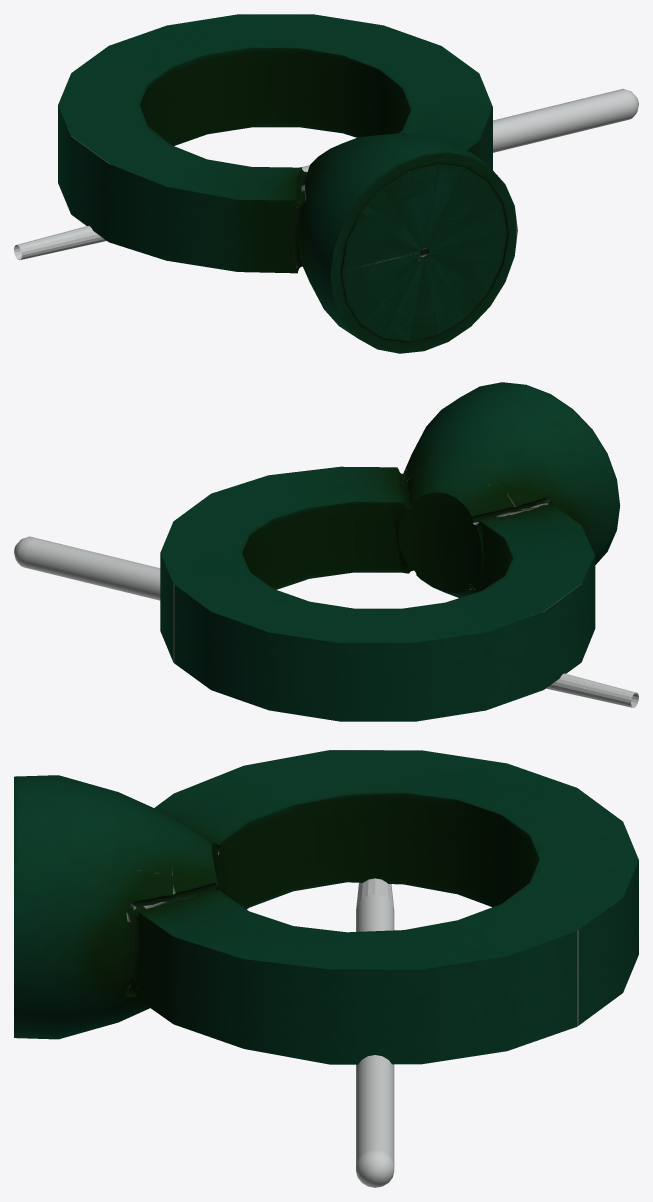
The picture shows the model from 3 angles, top to bottom: view 1: azimuth 30°, elevation 25°; view 2: azimuth 150°, elevation 25°; view 3: azimuth 270°, elevation 25°; orthographic projection. The views are drawn at different scales.
Parts seen in each view (by area): view 1: 211_JieQuan_AoXian_002, 211_JieQuan_AoXian_ZhuaXiang_003, 211_JieQuan_AoXian_ZhuaXiang_001, 211_DaMoJi_0.8MoZhen; view 2: 211_JieQuan_AoXian_002, 211_DaMoJi_0.8MoZhen; view 3: 211_JieQuan_AoXian_002, 211_DaMoJi_0.8MoZhen.
Part boxes in pixels (x1=…): 211_JieQuan_AoXian_002: x1=58, y1=14, x2=517, y2=353; 211_JieQuan_AoXian_ZhuaXiang_003: x1=342, y1=164, x2=506, y2=341; 211_JieQuan_AoXian_ZhuaXiang_001: x1=341, y1=165, x2=506, y2=340; 211_DaMoJi_0.8MoZhen: x1=14, y1=88, x2=638, y2=260; 211_JieQuan_AoXian_002: x1=160, y1=382, x2=620, y2=721; 211_DaMoJi_0.8MoZhen: x1=14, y1=536, x2=638, y2=707; 211_JieQuan_AoXian_002: x1=14, y1=750, x2=638, y2=1064; 211_DaMoJi_0.8MoZhen: x1=356, y1=878, x2=394, y2=1187.
Bounding box in the file's own units: 3.95 × 1.21 × 2.85.
Materials: 1 (1 with a texture image).
